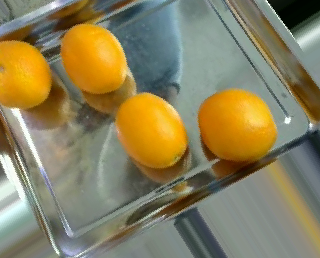Orange: (198, 87, 279, 163), (115, 87, 188, 168), (59, 21, 126, 92), (0, 40, 51, 109)
